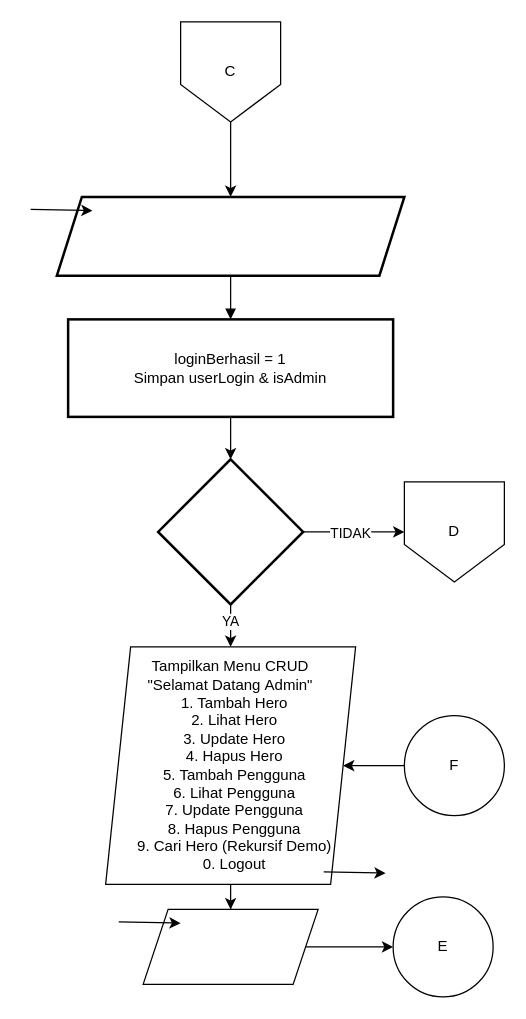
Some shapes in this 526 by 1019 pixel diagram are drawn without their labels. Each missing label, with the centre of its shape:
Input Pilihan (1-9,0): (230,946)
isAdmin?: (230,531)
Login Berhasil! Selamat Datang: (230,235)
